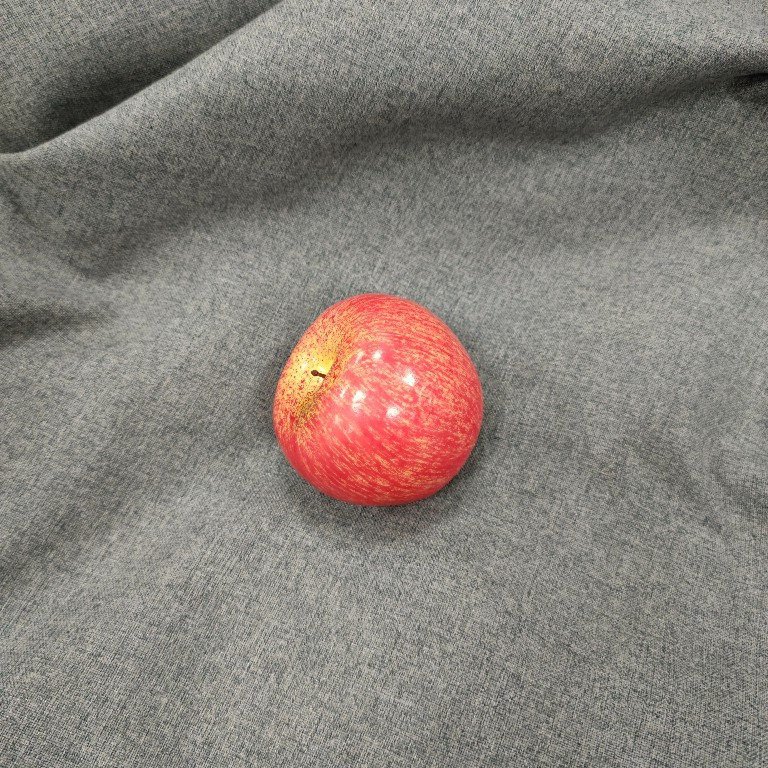fruit_apple: (264, 287, 495, 513)
